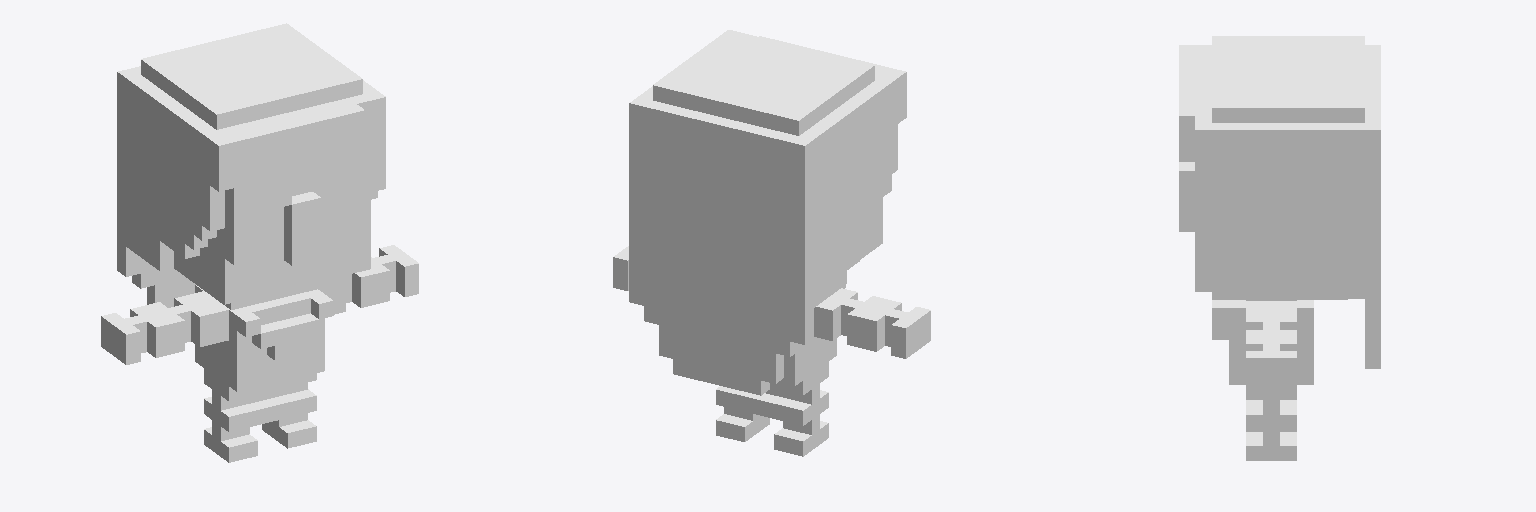
File: Jenny.obj
3 views of the same model, side by side, from view 1: azimuth 30°, elevation 25°; view 2: azimuth 150°, elevation 25°; view 3: azimuth 270°, elevation 25° (orthographic).
Parts seen in each view (by area): view 1: object 1; view 2: object 1; view 3: object 1.
Boxes of the visible parts, <box> form: object 1: <box>101,23,418,462</box>; object 1: <box>613,30,930,456</box>; object 1: <box>1179,36,1380,460</box>.
Bounding box in the file's own units: 2 × 2.4 × 1.2.